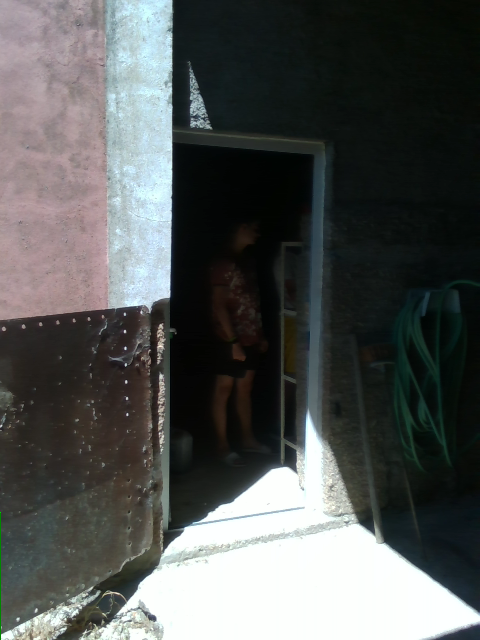open: (175, 123, 326, 496)
